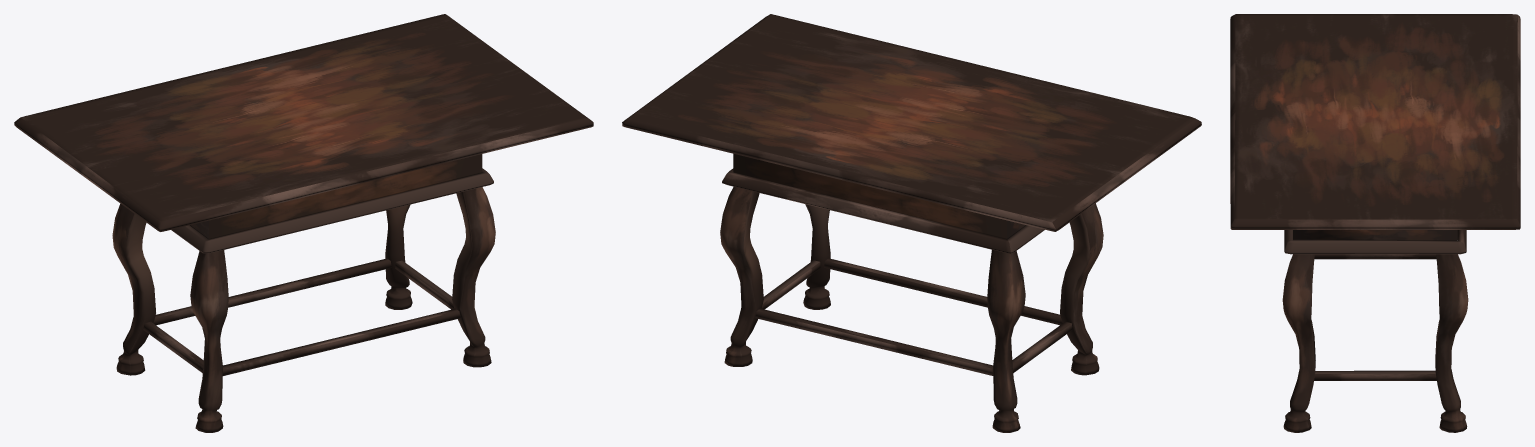
File: Table_textured.fbx
3 views of the same model, side by side, from view 1: azimuth 30°, elevation 25°; view 2: azimuth 150°, elevation 25°; view 3: azimuth 270°, elevation 25° (orthographic).
Visible parts, largest first — view 1: table_low; view 2: table_low; view 3: table_low.
Part boxes in pixels (left/top/right/bottom): table_low: left=14, top=14, right=593, bottom=432; table_low: left=622, top=14, right=1201, bottom=432; table_low: left=1230, top=14, right=1520, bottom=432.
Bounding box in the file's own units: 163 × 88.71 × 95.09.
1 material, 1 textured.
